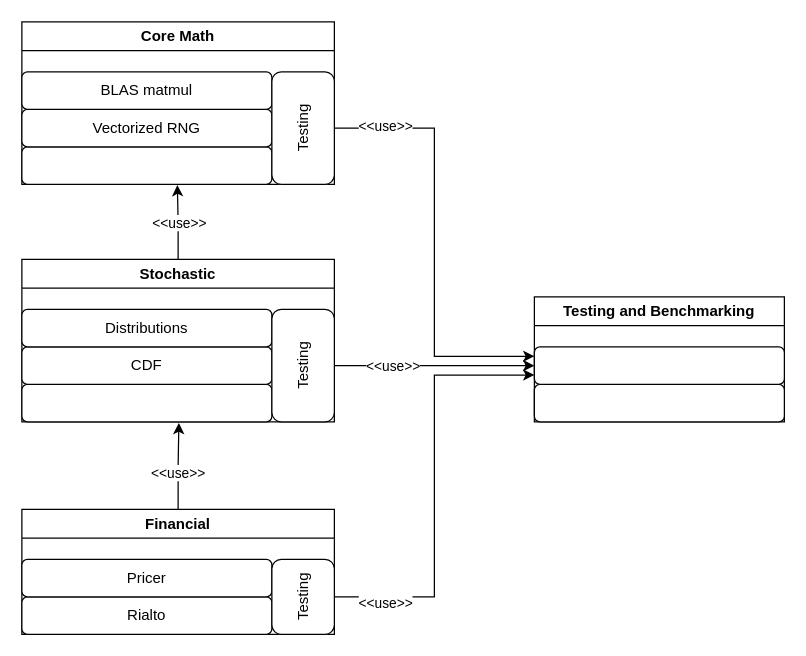
Some shapes in this 806 by 656 pixel diagram are drawn without their labels. Each missing label, with the centre of its shape:
"Dispersion" belongs at point 146,402.
"Fast math (logf)" belongs at point 146,165.
"Latency/Throughput measurer" belongs at point 658,365.
"Stat tests (Kolmogorov-Smirnov, Autocorr)" belongs at point 658,402.
